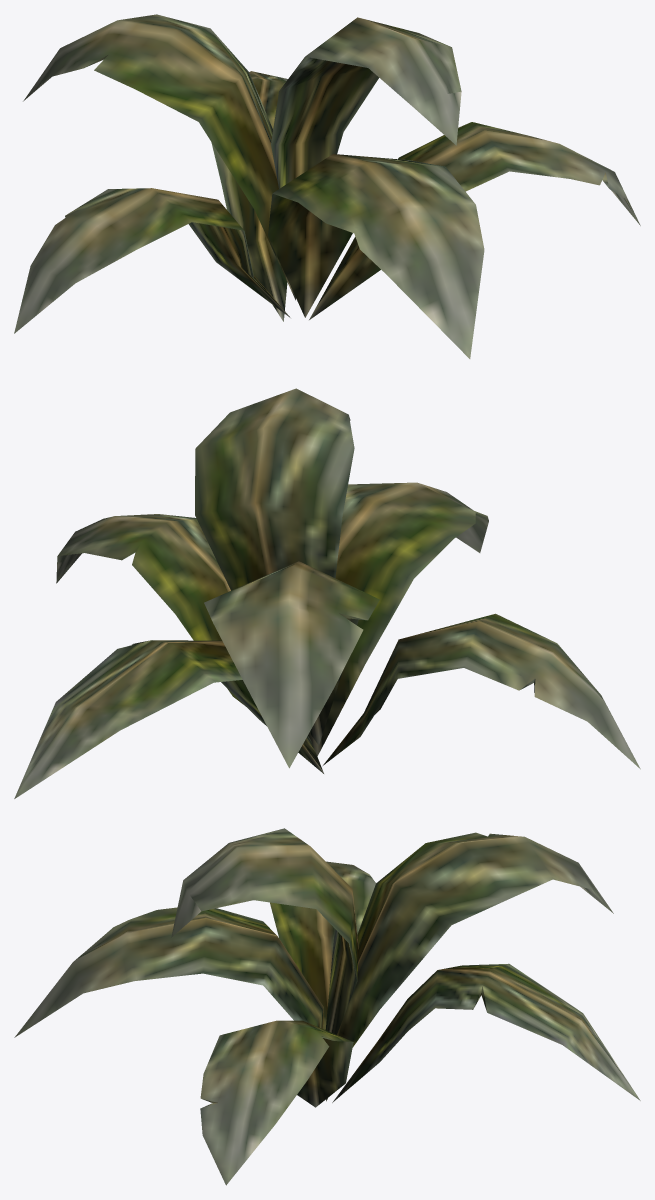
The model's file is SM_zhucheng_Fern01.FBX.
3 renders of one model, top to bottom at view 1: azimuth 30°, elevation 25°; view 2: azimuth 150°, elevation 25°; view 3: azimuth 270°, elevation 25°, orthographic. The views are drawn at different scales.
Parts seen in each view (by area): view 1: SM_zhucheng_Fern01; view 2: SM_zhucheng_Fern01; view 3: SM_zhucheng_Fern01.
Part boxes in pixels (box(x1,y1,x2,y2)): SM_zhucheng_Fern01: box(14, 14, 640, 358); SM_zhucheng_Fern01: box(14, 388, 640, 798); SM_zhucheng_Fern01: box(14, 828, 640, 1185).
Bounding box in the file's own units: 108 × 53.57 × 105.
